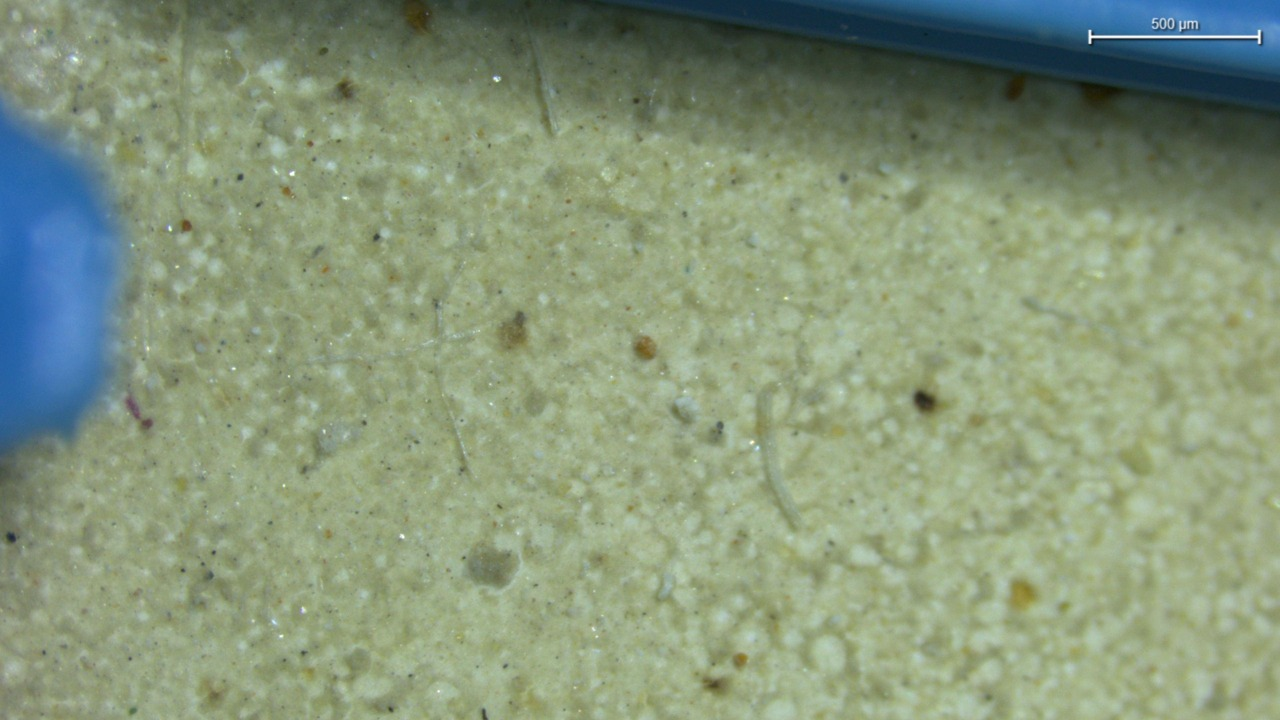microplastic_fragment: (315, 422, 363, 457), (672, 396, 701, 422)
